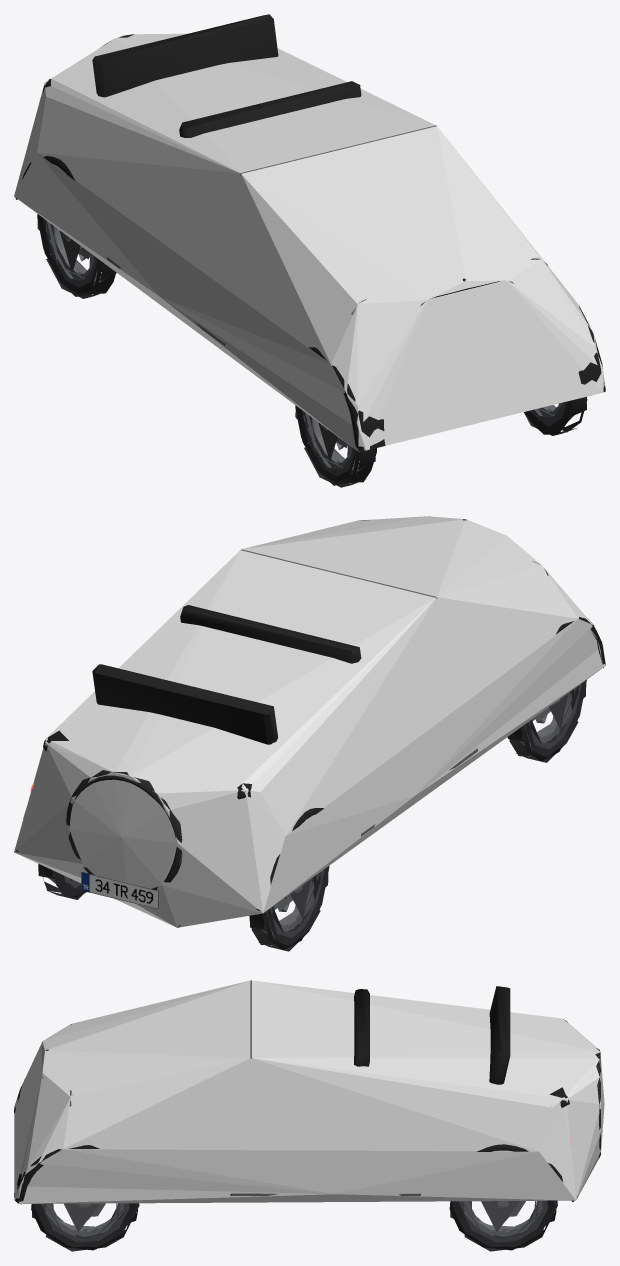
The model's file is bosfor_pera_lod1.glb.
3 renders of one model, top to bottom at view 1: azimuth 30°, elevation 25°; view 2: azimuth 150°, elevation 25°; view 3: azimuth 270°, elevation 25°, orthographic. The views are drawn at different scales.
Visible parts, largest first — view 1: col_body, interior, wheel_RR, wheel_FR, trim, wheel_FL; view 2: col_body, interior, trim, wheel_RR, wheel_FR, plate_rear, wheel_RL; view 3: col_body, wheel_RL, interior, wheel_FL, trim, brake_RL, brake_FL.
Boxes of the visible parts, x1=… form: col_body: x1=14, y1=33, x2=604, y2=451; interior: x1=92, y1=14, x2=361, y2=137; wheel_RR: x1=37, y1=214, x2=116, y2=298; wheel_FR: x1=295, y1=405, x2=376, y2=487; trim: x1=15, y1=34, x2=605, y2=451; wheel_FL: x1=523, y1=397, x2=587, y2=435; col_body: x1=14, y1=516, x2=605, y2=927; interior: x1=92, y1=605, x2=361, y2=744; trim: x1=15, y1=516, x2=605, y2=927; wheel_RR: x1=249, y1=866, x2=329, y2=951; wheel_FR: x1=507, y1=680, x2=586, y2=762; plate_rear: x1=81, y1=872, x2=158, y2=909; wheel_RL: x1=38, y1=864, x2=86, y2=899; col_body: x1=14, y1=980, x2=604, y2=1203; wheel_RL: x1=449, y1=1200, x2=557, y2=1251; interior: x1=354, y1=986, x2=510, y2=1084; wheel_FL: x1=31, y1=1203, x2=139, y2=1251; trim: x1=14, y1=980, x2=600, y2=1204; brake_RL: x1=481, y1=1201, x2=519, y2=1232; brake_FL: x1=64, y1=1203, x2=99, y2=1232.
Bounding box in the file's own units: 1.72 × 1.49 × 4.24.
10 materials, 1 textured.
